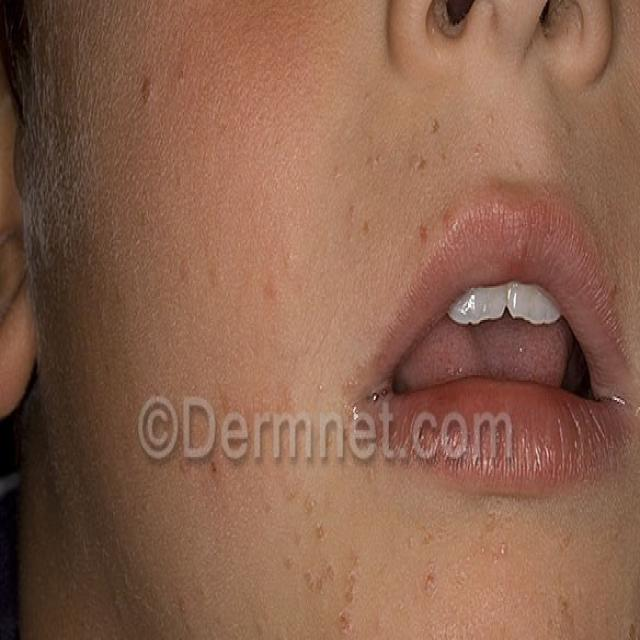Warts: (184, 419, 351, 640), (396, 528, 640, 640), (347, 96, 466, 254), (168, 231, 311, 313), (126, 47, 190, 136), (603, 254, 629, 323)
